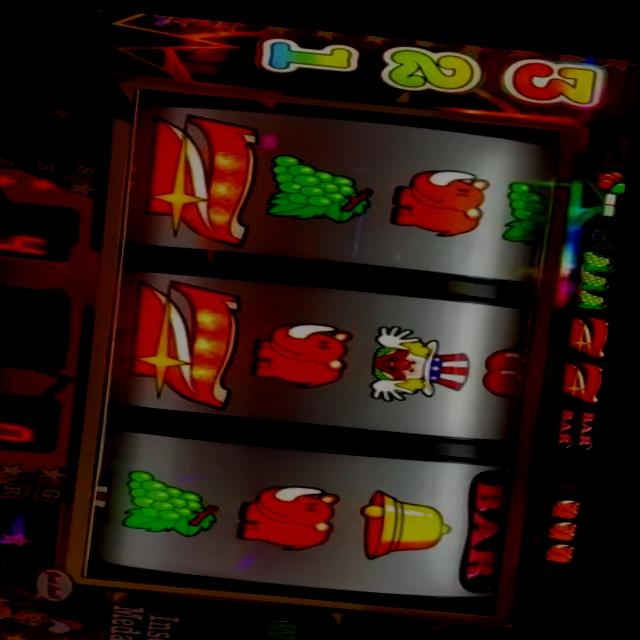bar: (466, 459, 516, 583), (563, 391, 608, 439)
bell: (363, 479, 469, 558)
cherry: (487, 329, 535, 391), (594, 154, 630, 182)
clown: (367, 316, 480, 398)
display: (92, 83, 567, 610)
elephant: (246, 472, 356, 548), (252, 311, 362, 386), (399, 155, 494, 233), (553, 529, 588, 552), (557, 485, 591, 507), (560, 508, 591, 530)
grape: (262, 149, 379, 221), (126, 465, 236, 532), (504, 168, 550, 237), (581, 236, 622, 260), (582, 257, 618, 279), (578, 278, 617, 297)
z: (149, 109, 262, 242), (138, 276, 248, 405), (565, 350, 611, 389), (569, 305, 616, 341)
